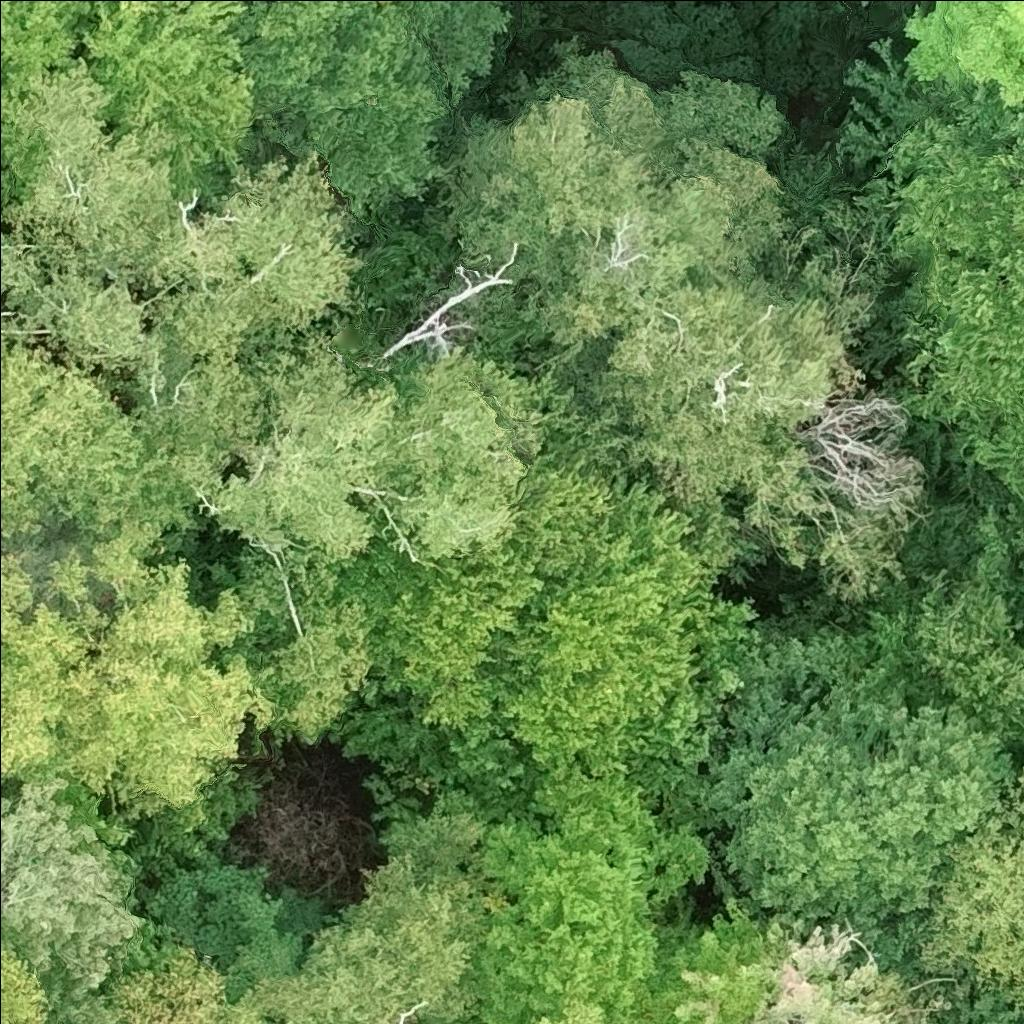crown: (528, 238, 926, 603), (381, 445, 761, 802), (671, 621, 1014, 937), (454, 79, 789, 357), (0, 234, 261, 560), (253, 785, 547, 1023), (50, 521, 281, 811), (240, 0, 518, 230), (0, 0, 282, 215), (473, 770, 710, 1023), (888, 79, 1023, 502), (140, 149, 368, 361), (855, 494, 1023, 763), (205, 333, 401, 560), (359, 345, 559, 563), (0, 57, 182, 289), (632, 894, 954, 1023), (212, 536, 410, 740), (917, 758, 1023, 1019), (0, 538, 94, 784), (903, 0, 1023, 111), (0, 939, 52, 1023), (534, 997, 607, 1023), (501, 1023, 504, 1023)
